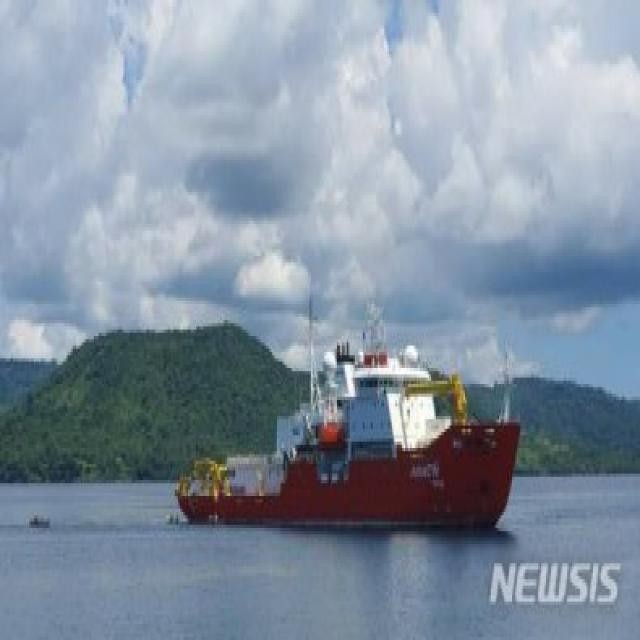Ship: (166, 276, 529, 548)
